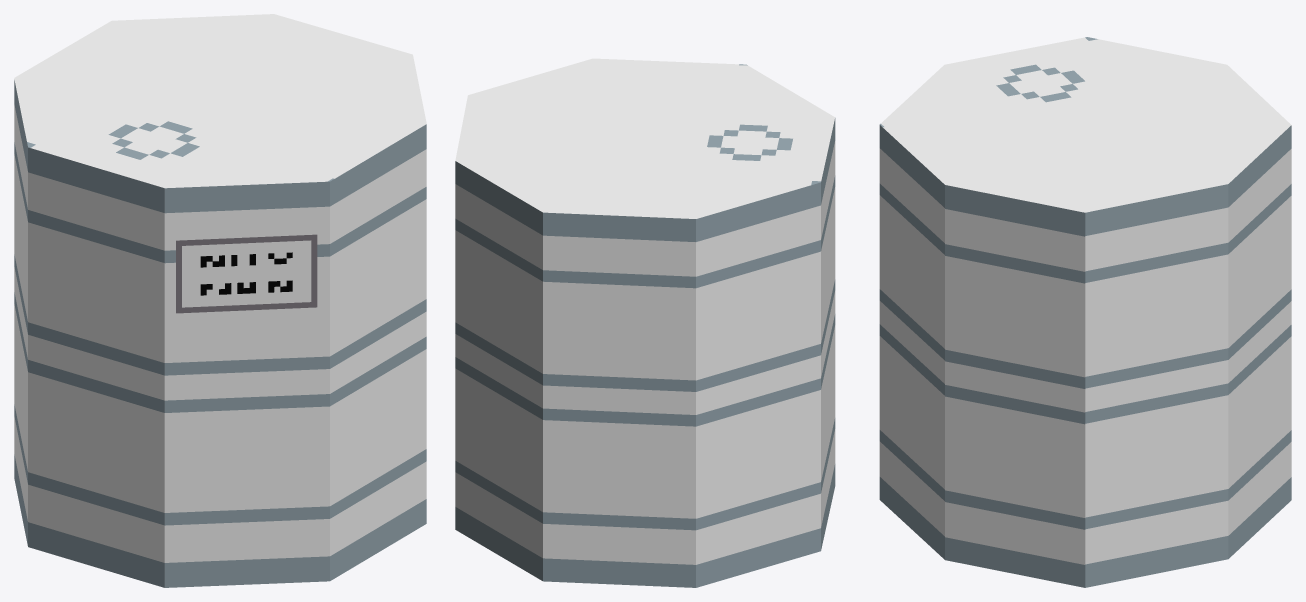
Rendered from barrel.glb.
3 renders of one model, left to right at view 1: azimuth 30°, elevation 25°; view 2: azimuth 150°, elevation 25°; view 3: azimuth 270°, elevation 25°, orthographic. The views are drawn at different scales.
Parts seen in each view (by area): view 1: Barrel.003, Barrel; view 2: Barrel.003; view 3: Barrel.003.
Boxes of the visible parts, x1,y1,x2,y2 form: Barrel.003: (14,14,426,587); Barrel: (176,234,317,313); Barrel.003: (455,58,835,587); Barrel.003: (879,37,1291,587).
Bounding box in the file's own units: 0.5023 × 0.5607 × 0.5063.
Materials: 1 (1 with a texture image).
